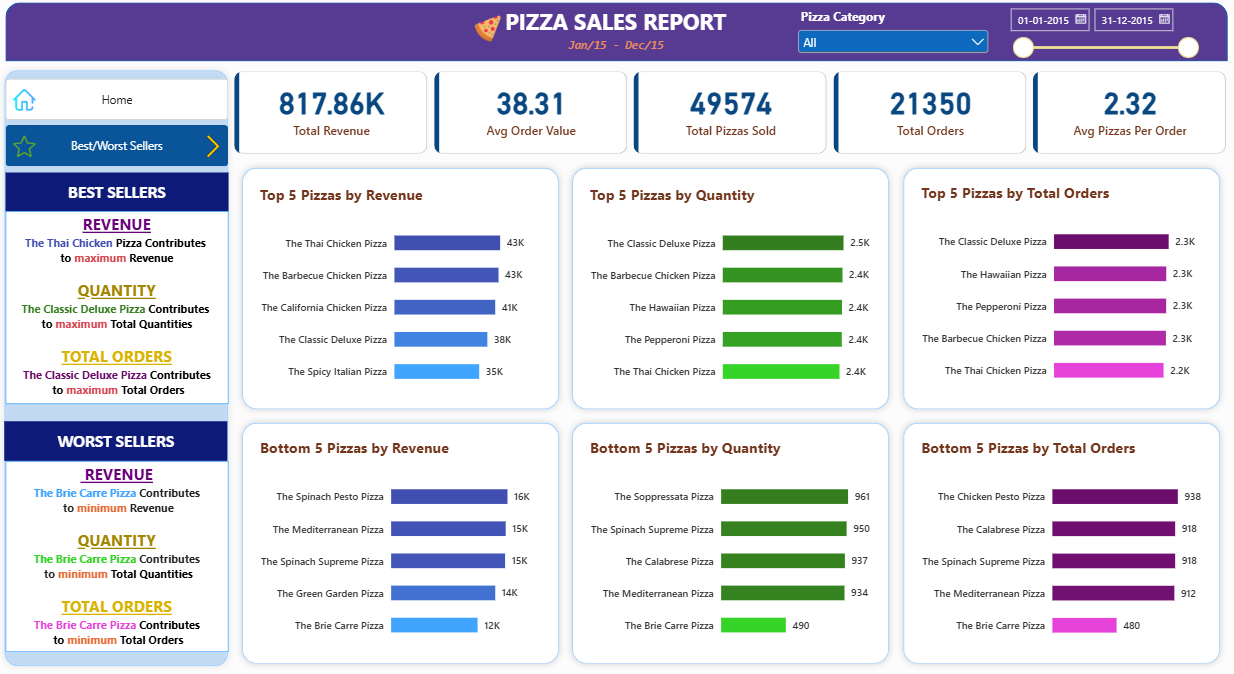

The page's visual inventory and layout, read from the dashboard file:
{"tool":"powerbi","page":{"name":"Best/Worst Sellers","canvas":[1500,820],"ordinal":1},"visuals":[{"type":"shape","box":[0,76.6,286.9,738.1],"z":0},{"type":"cardVisual","fields":{"Data":["pizza_sales.Total Revenue","pizza_sales.Avg Order Value","pizza_sales.Total Pizzas Sold","pizza_sales.Total Orders","pizza_sales.Avg Pizzas Per Order"]},"box":[286.9,86.3,1203.3,100.3],"z":1000},{"type":"shape","box":[8.6,2.9,1481.4,71.4],"z":2000},{"type":"textbox","box":[575.7,7.1,346.2,40],"z":3000},{"type":"textbox","box":[670,44.3,158.6,27.1],"z":4000},{"type":"image","box":[563.8,18.8,60,32.5],"z":5000},{"type":"shape","box":[287.1,195.7,400,308.6],"z":6000},{"type":"textbox","box":[8.4,208.9,270,48],"z":7000},{"type":"textbox","box":[8.4,256.3,270.2,234],"z":8000},{"type":"textbox","box":[7.7,510.8,270.2,48],"z":9000},{"type":"textbox","box":[8.4,558.5,270.2,231.2],"z":10000},{"type":"slicer","fields":{"Values":["pizza_sales.pizza_category"]},"box":[965.7,8.6,240,60],"z":11000},{"type":"slicer","fields":{"Values":["pizza_sales.order_date"]},"box":[1220,0,239.5,86.3],"z":12000},{"type":"shape","box":[688.6,195.7,400,308.6],"z":13000},{"type":"shape","box":[1090,195.7,400,308.6],"z":14000},{"type":"shape","box":[288.6,504.3,400,308],"z":15000},{"type":"shape","box":[688.6,504.3,400,308],"z":16000},{"type":"shape","box":[1090,504.3,400,308],"z":17000},{"type":"barChart","title":"Top 5 Pizzas by Revenue","fields":{"Category":["pizza_sales.pizza_name"],"Y":["pizza_sales.Total Revenue"]},"box":[300.8,208.9,372,283],"z":18000},{"type":"barChart","title":"Bottom 5 Pizzas by Revenue","fields":{"Category":["pizza_sales.pizza_name"],"Y":["pizza_sales.Total Revenue"]},"box":[300.8,516.7,371.8,282.7],"z":19000},{"type":"barChart","title":"Top 5 Pizzas by Quantity","fields":{"Category":["pizza_sales.pizza_name"],"Y":["pizza_sales.Total Pizzas Sold"]},"box":[701.9,208.9,372,283],"z":20000},{"type":"barChart","title":"Bottom 5 Pizzas by Quantity","fields":{"Category":["pizza_sales.pizza_name"],"Y":["pizza_sales.Total Pizzas Sold"]},"box":[701.9,516.7,371.8,282.7],"z":21000},{"type":"barChart","title":"Top 5 Pizzas by Total Orders","fields":{"Category":["pizza_sales.pizza_name"],"Y":["pizza_sales.Total Orders"]},"box":[1103,207.5,372,283],"z":22000},{"type":"barChart","title":"Bottom 5 Pizzas by Total Orders","fields":{"Category":["pizza_sales.pizza_name"],"Y":["pizza_sales.Total Orders"]},"box":[1103,516.7,372,283],"z":23000},{"type":"pageNavigator","box":[8.3,151.7,270.8,50],"z":24000},{"type":"pageNavigator","box":[8.3,95.8,270.8,50],"z":25000},{"type":"image","box":[15.3,107.1,33.3,27.3],"z":25001},{"type":"image","box":[15.3,162.9,33.5,27.1],"z":25002},{"type":"image","box":[244.1,162.9,33.5,27.1],"z":25003}]}

Visuals, with their boxes in screenshot pixels (x1, y1, x2, y2), scaled from the page's 1500x820 canvas onto the 1234x674 screenshot:
shape: select_region(0, 63, 236, 670)
cardVisual - pizza_sales.Total Revenue x pizza_sales.Avg Order Value: select_region(236, 71, 1226, 153)
shape: select_region(7, 2, 1226, 61)
textbox: select_region(474, 6, 758, 39)
textbox: select_region(551, 36, 682, 59)
image: select_region(464, 15, 513, 42)
shape: select_region(236, 161, 565, 415)
textbox: select_region(7, 172, 229, 211)
textbox: select_region(7, 211, 229, 403)
textbox: select_region(6, 420, 229, 459)
textbox: select_region(7, 459, 229, 649)
slicer - pizza_sales.pizza_category: select_region(794, 7, 992, 56)
slicer - pizza_sales.order_date: select_region(1004, 0, 1201, 71)
shape: select_region(566, 161, 896, 415)
shape: select_region(897, 161, 1226, 415)
shape: select_region(237, 415, 566, 668)
shape: select_region(566, 415, 896, 668)
shape: select_region(897, 415, 1226, 668)
"Top 5 Pizzas by Revenue" barChart: select_region(247, 172, 553, 404)
"Bottom 5 Pizzas by Revenue" barChart: select_region(247, 425, 553, 657)
"Top 5 Pizzas by Quantity" barChart: select_region(577, 172, 883, 404)
"Bottom 5 Pizzas by Quantity" barChart: select_region(577, 425, 883, 657)
"Top 5 Pizzas by Total Orders" barChart: select_region(907, 171, 1213, 403)
"Bottom 5 Pizzas by Total Orders" barChart: select_region(907, 425, 1213, 657)
pageNavigator: select_region(7, 125, 230, 166)
pageNavigator: select_region(7, 79, 230, 120)
image: select_region(13, 88, 40, 110)
image: select_region(13, 134, 40, 156)
image: select_region(201, 134, 228, 156)
